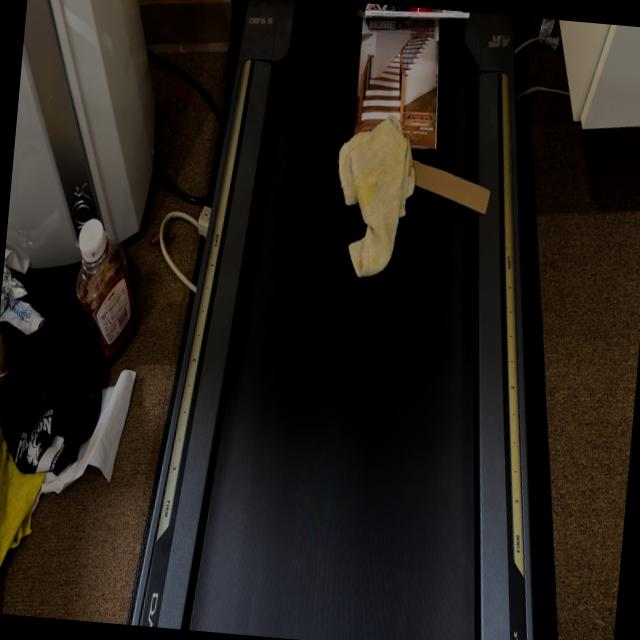Recycle: (349, 16, 447, 151), (404, 156, 494, 218), (360, 2, 472, 26)
Trash: (326, 109, 422, 284)
